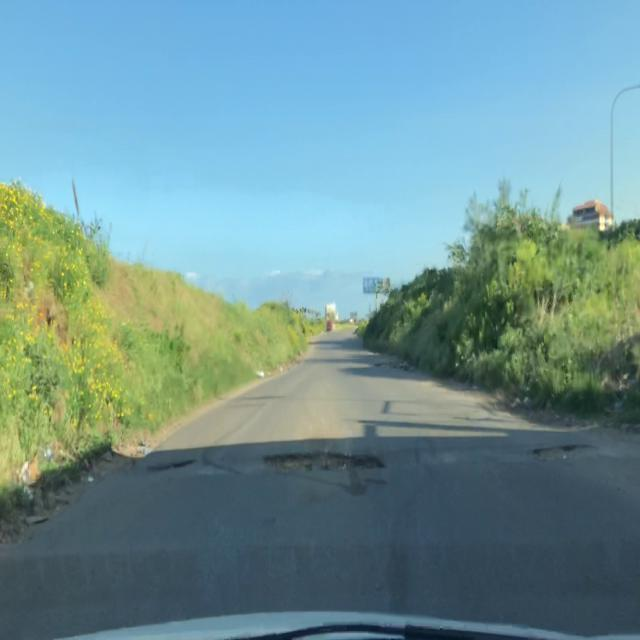pothole: (256, 441, 391, 482), (529, 438, 601, 475), (142, 449, 199, 482), (374, 358, 421, 373)
